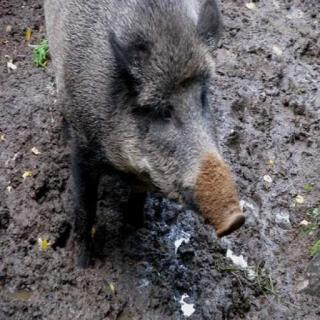Pig: (32, 0, 279, 271)
